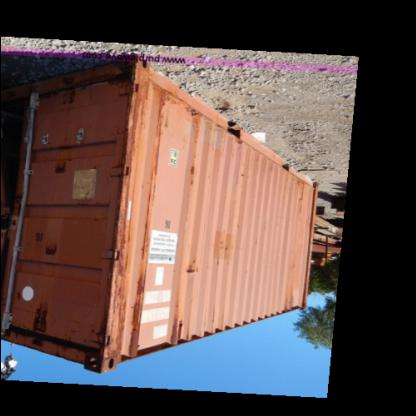Damage: (92, 248, 172, 364), (46, 68, 138, 114), (46, 154, 78, 188), (28, 230, 64, 260), (184, 159, 206, 186), (182, 256, 206, 280)
